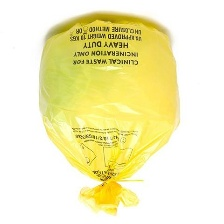plastic_bag: (25, 16, 182, 218)
